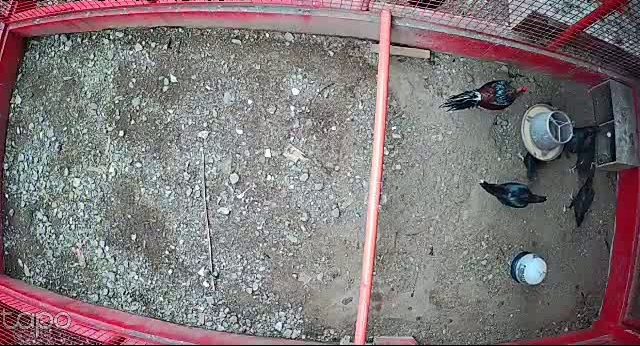Chicken: (475, 174, 553, 212), (561, 172, 599, 231), (518, 149, 550, 179)
Drinker: (510, 252, 548, 286)
Feeder: (519, 99, 574, 162)
Rooster: (438, 79, 532, 116)
